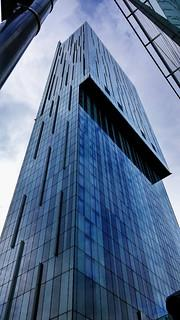building: (5, 19, 180, 320)
